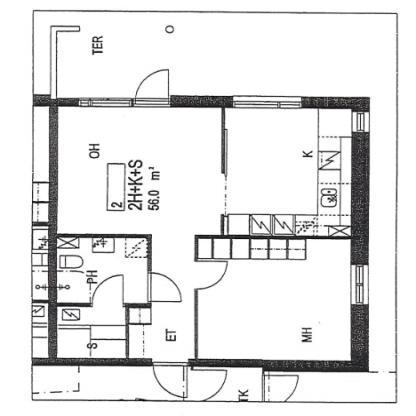bathroom: (54, 233, 151, 358)
door: (133, 67, 173, 109), (148, 361, 191, 398), (89, 272, 127, 312), (144, 270, 184, 307), (194, 264, 230, 290)
perimeter: (54, 102, 360, 365)
window: (231, 93, 310, 110), (345, 262, 372, 310), (75, 94, 134, 112), (348, 111, 374, 138)
